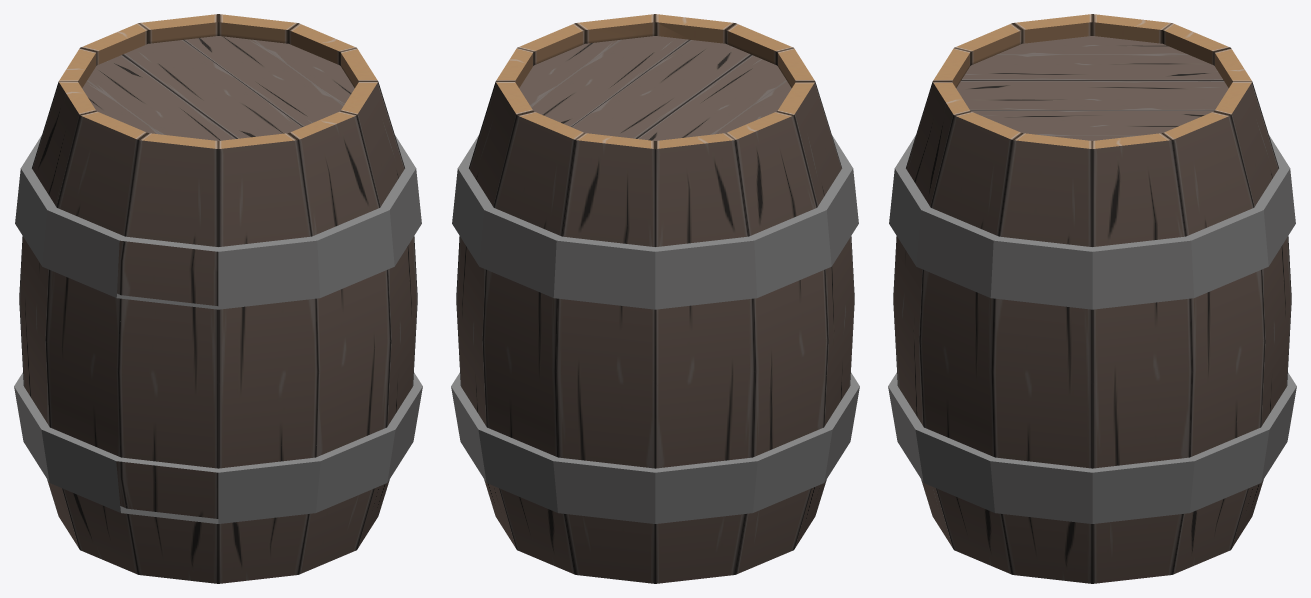
Rendered from BARREL 01.fbx.
The picture shows the model from 3 angles, left to right: view 1: azimuth 30°, elevation 25°; view 2: azimuth 150°, elevation 25°; view 3: azimuth 270°, elevation 25°; orthographic projection.
Parts seen in each view (by area): view 1: props_barrel_02.013, props_barrel_02.012, props_barrel_02.011, props_barrel_02.001, props_barrel_02.010, props_barrel_02.002, props_barrel_02.007, props_barrel_02.005, props_barrel_02.004, props_barrel_02.006, props_barrel_02.008, props_barrel_02.003 (+1 smaller); view 2: props_barrel_02.008, props_barrel_02.009, props_barrel_02.010, props_barrel_02.006, props_barrel_02.005, props_barrel_02.011, props_barrel_02.007, props_barrel_02.004, props_barrel_02.002, props_barrel_02.001, props_barrel_02.003, props_barrel_02.013 (+1 smaller); view 3: props_barrel_02.004, props_barrel_02.003, props_barrel_02.005, props_barrel_02.002, props_barrel_02.010, props_barrel_02.001, props_barrel_02.006, props_barrel_02.007, props_barrel_02.011, props_barrel_02.009, props_barrel_02.012, props_barrel_02.008 (+1 smaller).
Boxes of the visible parts, x1,y1,x2,y2 form: props_barrel_02.013: [218, 133, 320, 583]; props_barrel_02.012: [116, 133, 218, 583]; props_barrel_02.011: [41, 111, 147, 574]; props_barrel_02.001: [289, 111, 395, 574]; props_barrel_02.010: [14, 44, 271, 549]; props_barrel_02.002: [340, 81, 422, 549]; props_barrel_02.007: [148, 36, 327, 134]; props_barrel_02.005: [218, 14, 343, 115]; props_barrel_02.004: [254, 23, 356, 105]; props_barrel_02.006: [139, 14, 218, 43]; props_barrel_02.008: [80, 23, 148, 65]; props_barrel_02.003: [340, 48, 422, 386]; props_barrel_02.008: [553, 133, 655, 583]; props_barrel_02.009: [655, 133, 757, 583]; props_barrel_02.010: [602, 44, 832, 574]; props_barrel_02.006: [478, 111, 584, 574]; props_barrel_02.005: [451, 36, 654, 549]; props_barrel_02.011: [777, 81, 859, 549]; props_barrel_02.007: [546, 36, 725, 134]; props_barrel_02.004: [451, 40, 619, 386]; props_barrel_02.002: [576, 14, 689, 43]; props_barrel_02.001: [655, 14, 734, 43]; props_barrel_02.003: [517, 23, 585, 65]; props_barrel_02.013: [725, 23, 793, 65]; props_barrel_02.004: [1050, 133, 1194, 583]; props_barrel_02.003: [990, 133, 1092, 583]; props_barrel_02.005: [1003, 111, 1269, 574]; props_barrel_02.002: [915, 111, 1021, 574]; props_barrel_02.010: [956, 14, 1228, 95]; props_barrel_02.001: [888, 81, 970, 549]; props_barrel_02.006: [1214, 81, 1296, 549]; props_barrel_02.007: [961, 95, 1223, 124]; props_barrel_02.011: [1013, 14, 1092, 43]; props_barrel_02.009: [1162, 23, 1230, 65]; props_barrel_02.012: [954, 23, 1022, 65]; props_barrel_02.008: [1214, 48, 1296, 386].
Bounding box in the file's own units: 86.95 × 102 × 86.95.
1 material, 1 textured.
